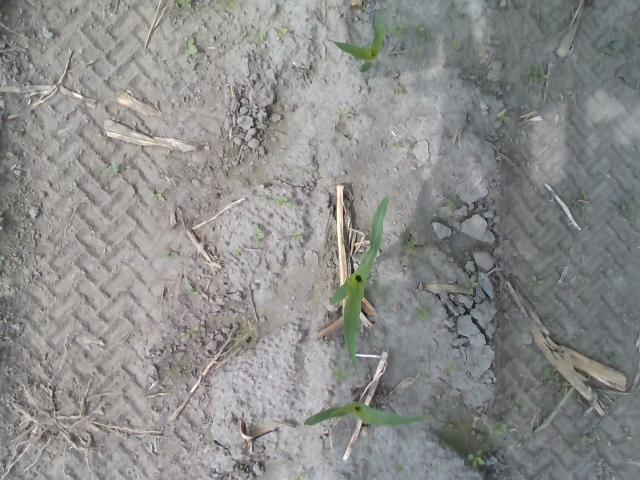Maize: (328, 195, 390, 370), (304, 400, 434, 433), (326, 17, 390, 68)
Weeds: (391, 24, 430, 40), (528, 64, 550, 84), (252, 223, 266, 248), (464, 451, 484, 468), (408, 304, 428, 320), (182, 37, 198, 57), (184, 282, 201, 298), (494, 108, 510, 125), (273, 194, 291, 208), (464, 275, 480, 290), (334, 366, 350, 381), (493, 420, 507, 437), (104, 161, 121, 174), (151, 190, 168, 202), (402, 238, 416, 252), (543, 364, 556, 378), (394, 462, 408, 474), (218, 0, 236, 9), (507, 402, 520, 414), (451, 38, 462, 52), (341, 109, 352, 121), (174, 0, 194, 6), (233, 246, 245, 255), (256, 34, 264, 42), (278, 28, 286, 36)
